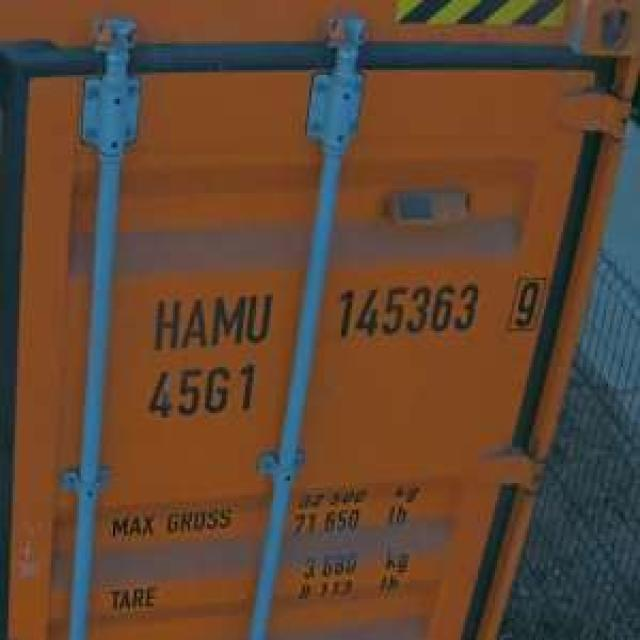dv: (506, 268, 548, 333)
owner: (148, 285, 278, 350)
serial: (331, 273, 480, 340)
size: (141, 358, 260, 420)
